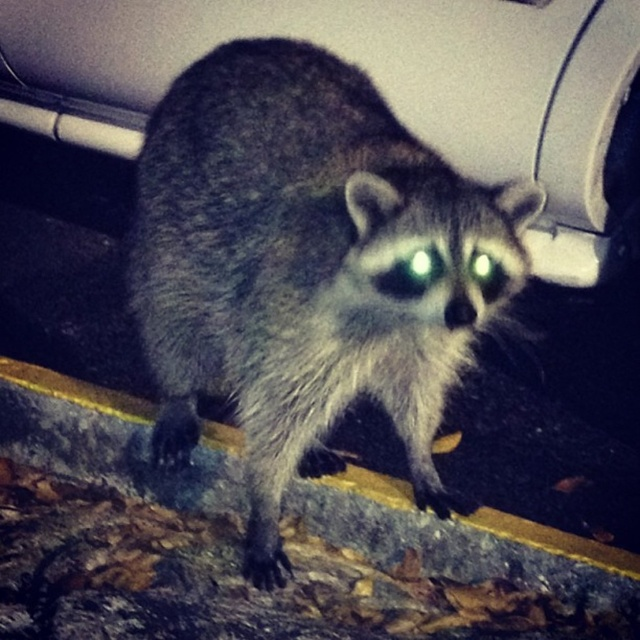Raccoon: (119, 37, 547, 594)
